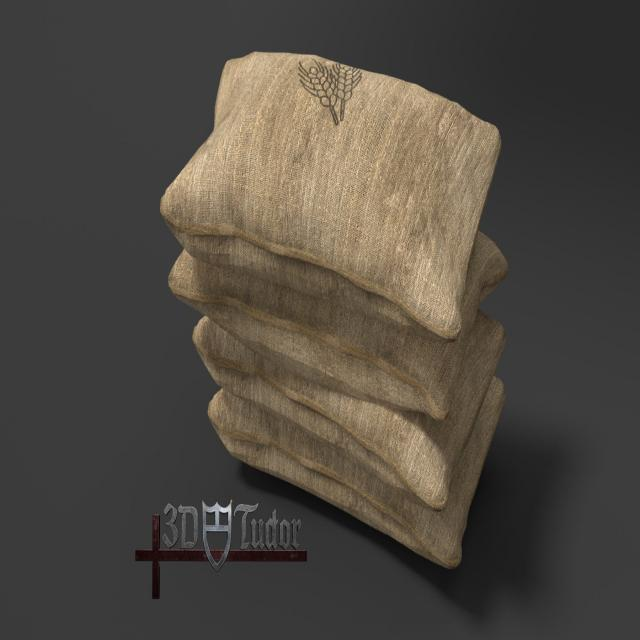gunny_bag: (156, 50, 504, 338), (169, 223, 511, 420), (196, 301, 508, 514), (206, 372, 509, 568)
